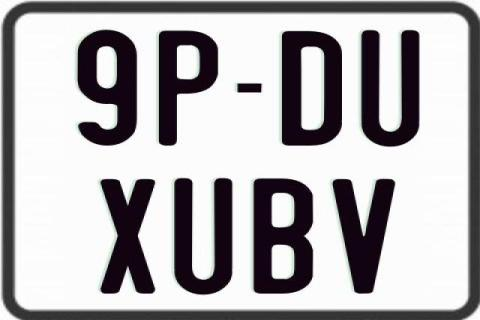0: (76, 30, 140, 146)
B: (253, 178, 318, 294)
D: (280, 30, 342, 148)
P: (157, 31, 222, 147)
U: (171, 176, 234, 292), (358, 28, 416, 145)
V: (331, 180, 400, 294)
X: (100, 178, 158, 296)
